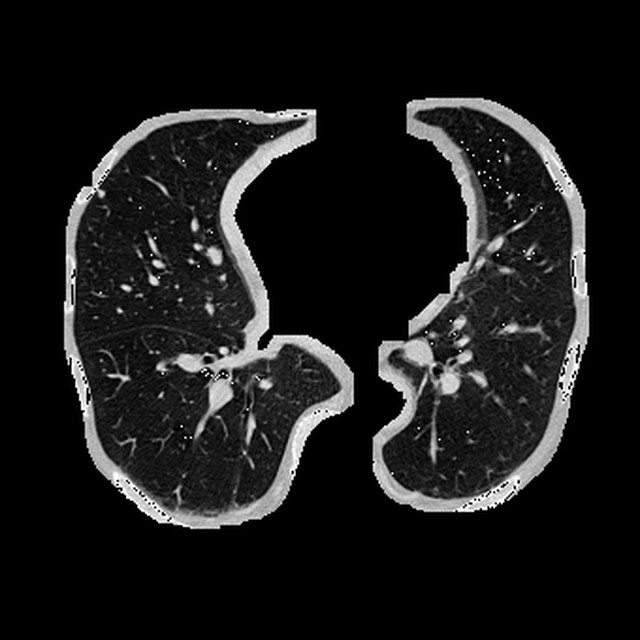PN: (98, 188, 105, 196)
